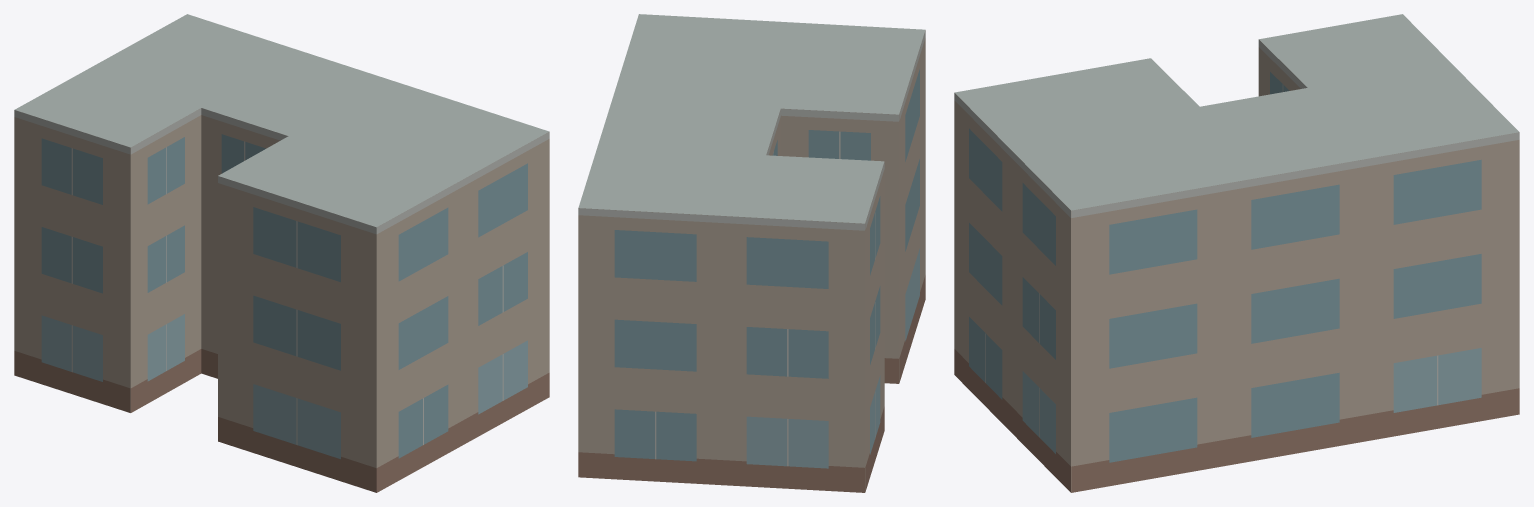
The model's file is survey-upis-32936840.glb.
3 views of the same model, side by side, from view 1: azimuth 30°, elevation 25°; view 2: azimuth 150°, elevation 25°; view 3: azimuth 270°, elevation 25° (orthographic). The views are drawn at different scales.
Parts seen in each view (by area): view 1: survey-upis-32936840.tmp; view 2: survey-upis-32936840.tmp; view 3: survey-upis-32936840.tmp.
Part boxes in pixels (x1=…): survey-upis-32936840.tmp: x1=14, y1=14, x2=549, y2=492; survey-upis-32936840.tmp: x1=578, y1=14, x2=925, y2=492; survey-upis-32936840.tmp: x1=954, y1=14, x2=1519, y2=492.
Bounding box in the file's own units: 13.68 × 9.15 × 16.62.
